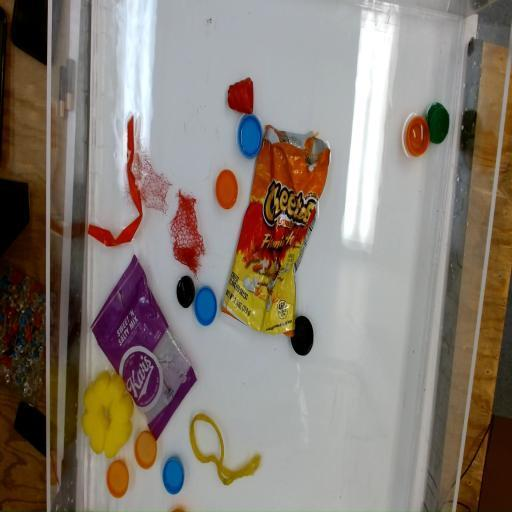Bottle Cap: (238, 112, 262, 158), (290, 313, 314, 355), (214, 169, 238, 210), (407, 117, 430, 159), (195, 284, 218, 326), (134, 432, 158, 470), (428, 102, 449, 144), (106, 460, 130, 496), (162, 456, 184, 494), (176, 277, 196, 309)
Cone Cap: (226, 78, 254, 116)
Netting: (170, 188, 206, 278), (133, 143, 170, 221)
Plastic Bag: (220, 124, 334, 339)
Plastic Strand: (89, 113, 143, 248), (190, 413, 262, 486)
Sponge: (92, 252, 198, 440), (81, 370, 134, 457)
